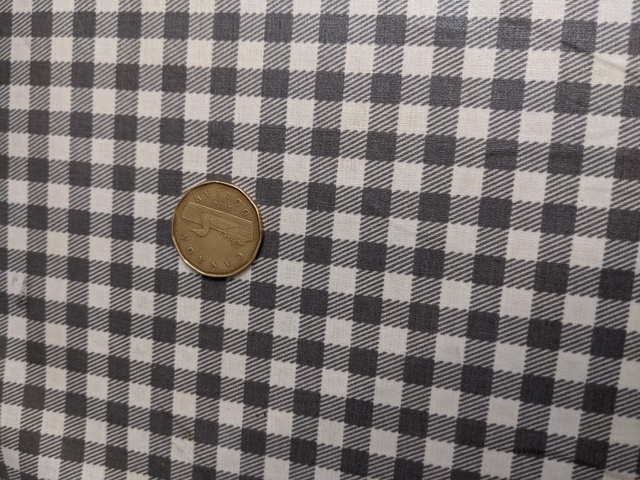loonie: (158, 178, 278, 285)
